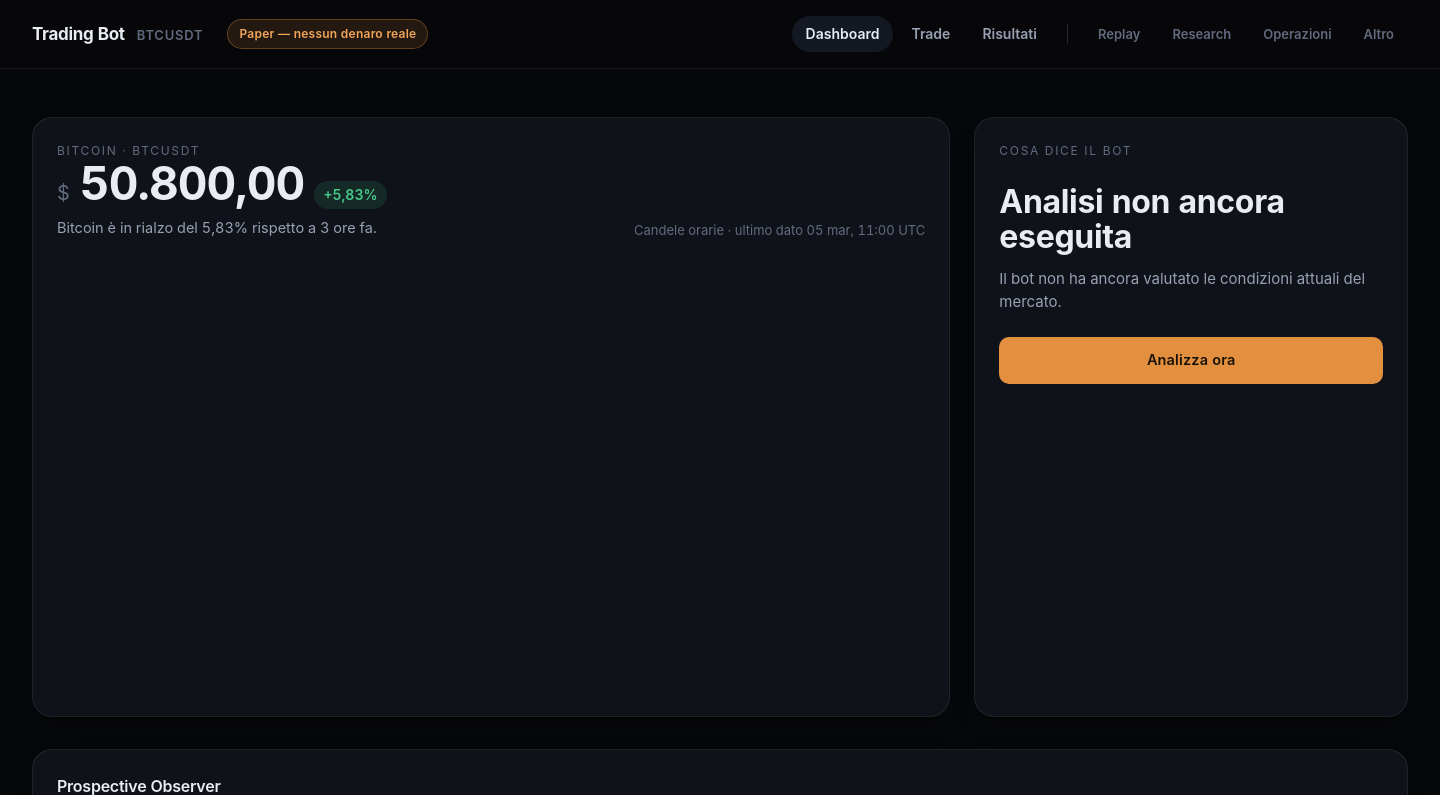
Test: analisi › mostra il LONG senza fingere livelli ancora ignoti
The image size is (1440, 795).
Check: the text "Analisi non ancora eseguita" is shown, box [999,182,1285,256]
Click the button "Analizza ora" at (1191,360), box [999,337,1383,384]
(page scrolled)
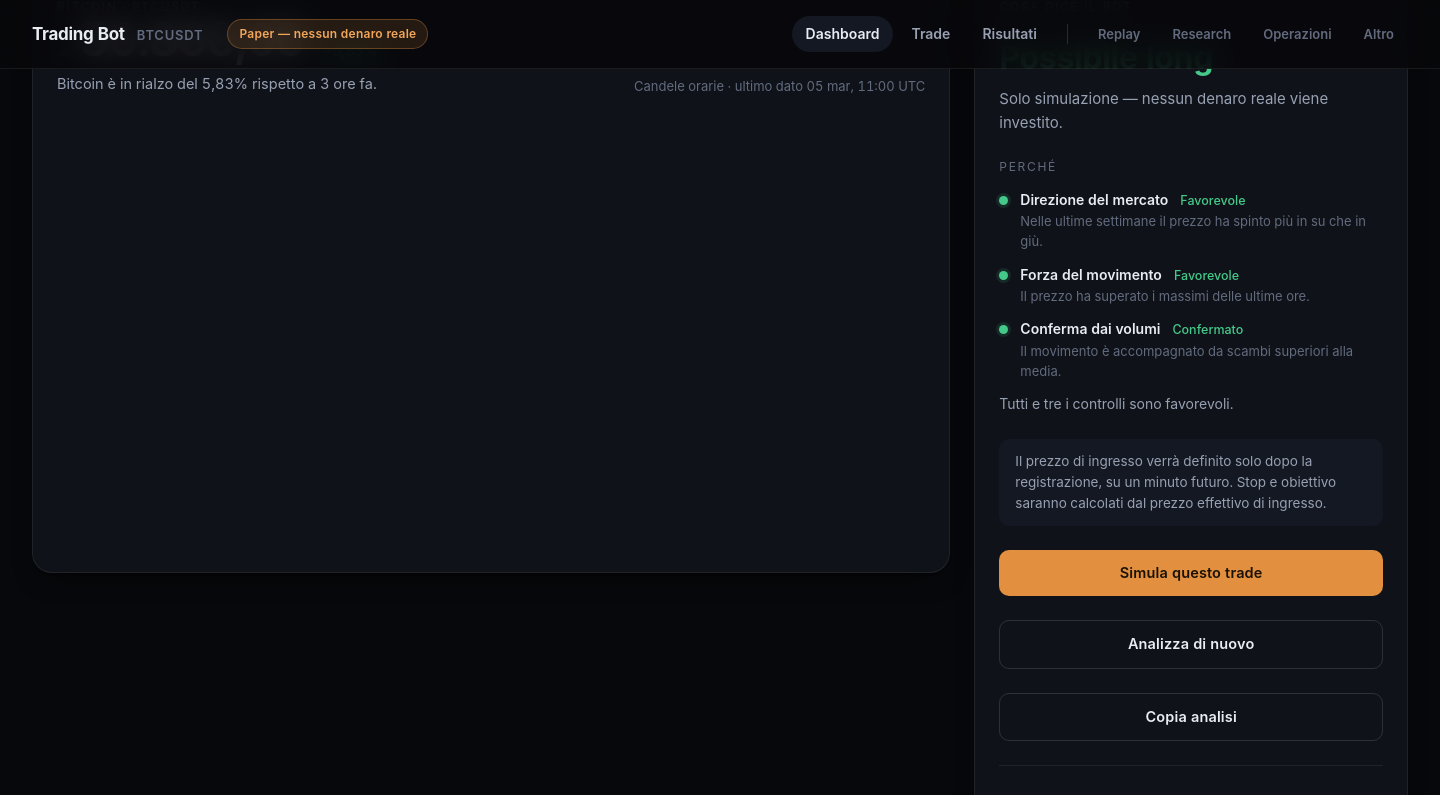
Check: the text "Possibile long" is shown, box [999,38,1213,77]
Check: the element named "Decisione del bot" shows "Solo simulazione — nessun denaro reale", box [999,90,1328,132]
Check: the element named "Decisione del bot" shows "Il prezzo di ingresso verrà definito solo dopo la registrazione", box [1015,453,1336,511]
